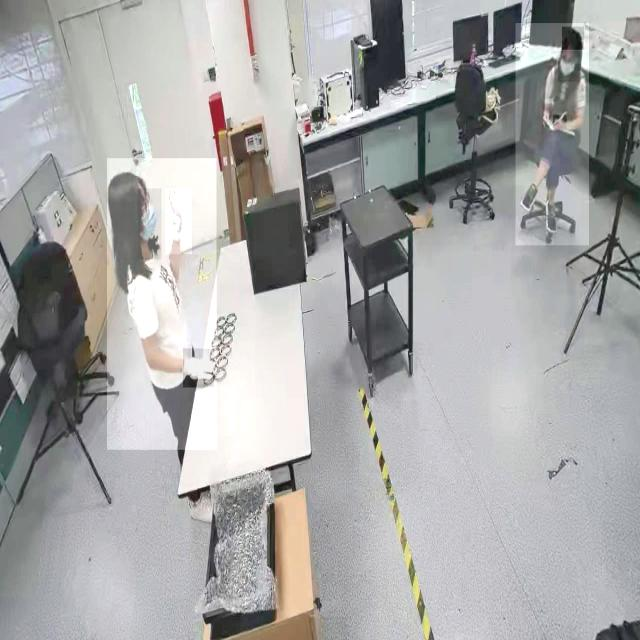face_mask: (138, 188, 162, 260), (558, 51, 580, 82)
hand_glove: (515, 23, 589, 246), (165, 188, 192, 254), (182, 348, 215, 388)
hand_noglove: (552, 115, 566, 132), (542, 108, 550, 128)
head_nohelmet: (108, 170, 152, 202), (562, 27, 584, 50)
person: (106, 158, 216, 451)
shoes: (518, 180, 540, 213), (543, 198, 559, 236)
